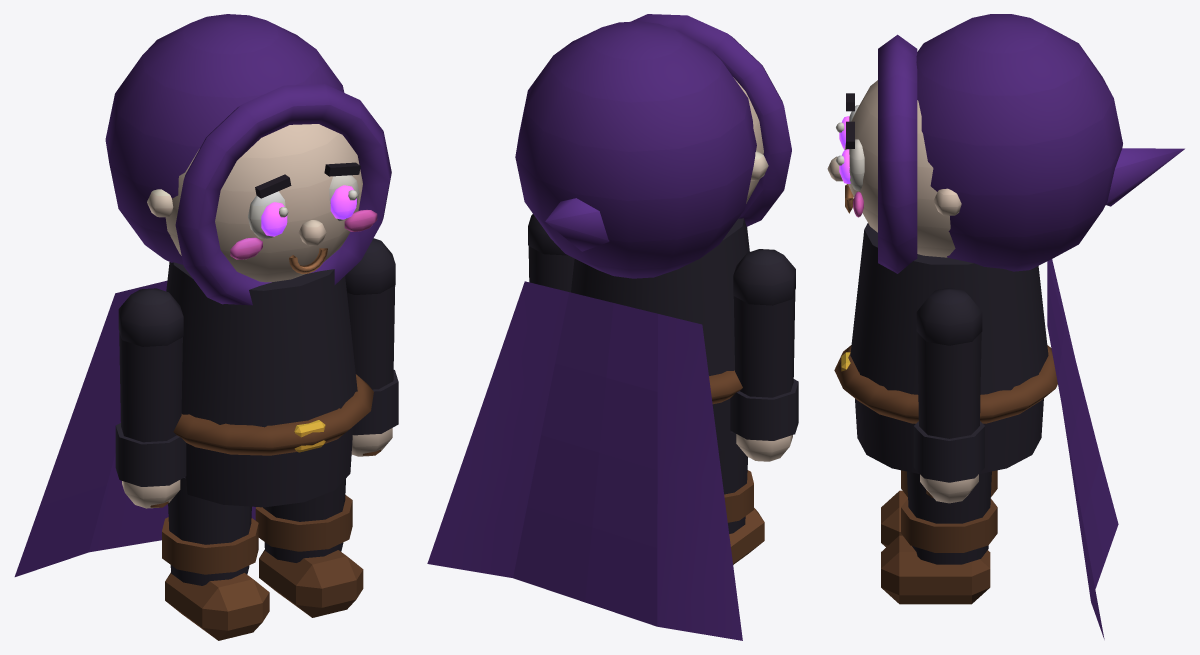
Rendered from hero_nyx.glb.
3 renders of one model, left to right at view 1: azimuth 30°, elevation 25°; view 2: azimuth 150°, elevation 25°; view 3: azimuth 270°, elevation 25°, orthographic. The views are drawn at different scales.
Visible parts, largest first — view 1: body_t0_palette, arml_t0_palette, legl_t0_palette, legr_t0_palette, armr_t0_palette, body_t0_shadow_glow; view 2: body_t0_palette, arml_t0_palette, legl_t0_palette, armr_t0_palette; view 3: body_t0_palette, armr_t0_palette, legr_t0_palette, legl_t0_palette.
Part boxes in pixels (box(x1,y1,x2,y2)): body_t0_palette: box(14, 14, 391, 576); arml_t0_palette: box(115, 288, 186, 508); legl_t0_palette: box(162, 477, 269, 640); legr_t0_palette: box(255, 479, 363, 617); armr_t0_palette: box(345, 238, 398, 456); body_t0_shadow_glow: box(261, 185, 356, 236); body_t0_palette: box(427, 14, 791, 640); arml_t0_palette: box(730, 249, 798, 461); legl_t0_palette: box(718, 431, 764, 564); armr_t0_palette: box(528, 214, 574, 292); body_t0_palette: box(827, 14, 1184, 639); armr_t0_palette: box(913, 288, 984, 503); legr_t0_palette: box(881, 471, 997, 604); legl_t0_palette: box(881, 470, 997, 547).
Bounding box in the file's own units: 0.32 × 0.5265 × 0.3112.
